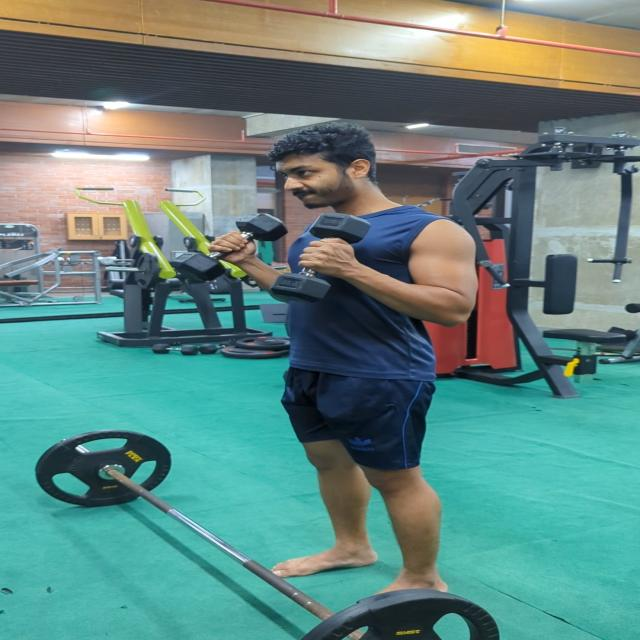Normal_DumbbellBicepCurls: (198, 122, 483, 604)
